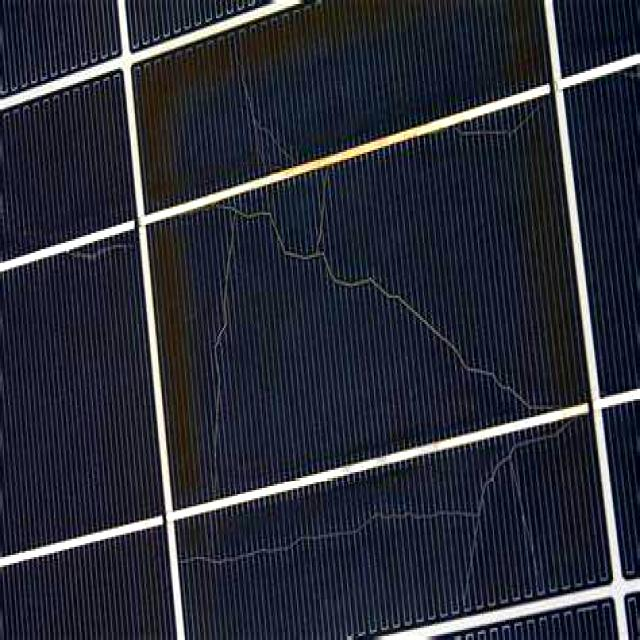shadow: (96, 41, 212, 514), (486, 19, 612, 419), (230, 0, 430, 40)
